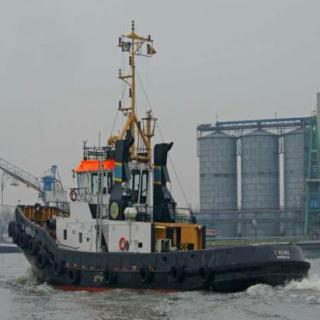Tug Boat: (0, 44, 312, 293)
